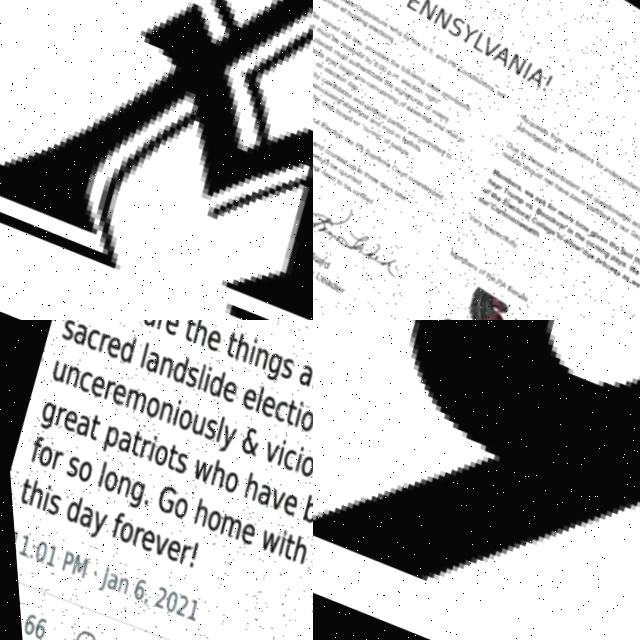0: (25, 537, 43, 562), (155, 586, 173, 609), (377, 59, 385, 69), (374, 57, 381, 66)
1: (9, 530, 26, 556), (178, 593, 194, 619), (37, 542, 53, 565), (9, 526, 14, 551)
2: (166, 588, 185, 614), (144, 581, 162, 606)
6: (123, 573, 142, 598), (24, 613, 42, 638), (14, 610, 31, 635)
8: (368, 53, 377, 64)
9: (313, 320, 640, 640)
A: (0, 0, 313, 320)
